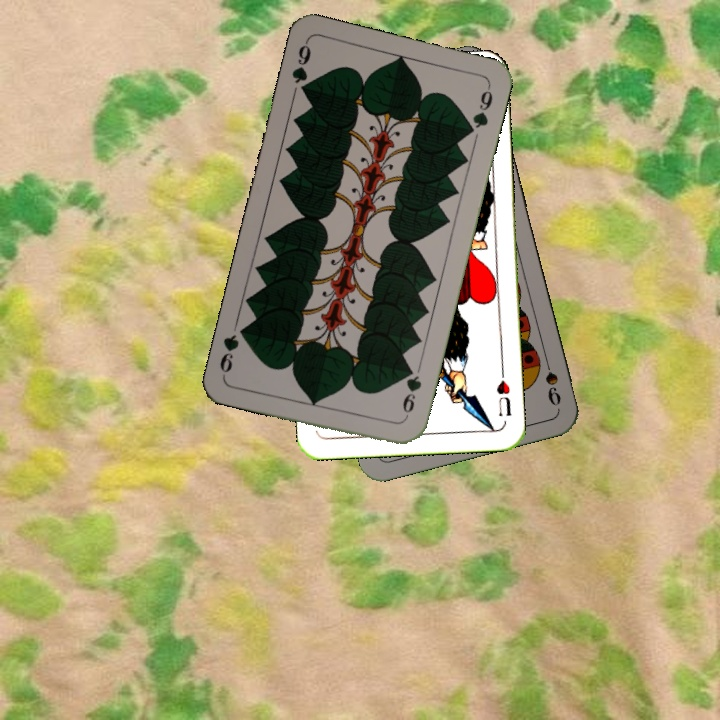G9: (287, 38, 313, 99), (398, 363, 424, 423)
HU: (493, 365, 514, 419)
S9: (540, 350, 563, 409)
